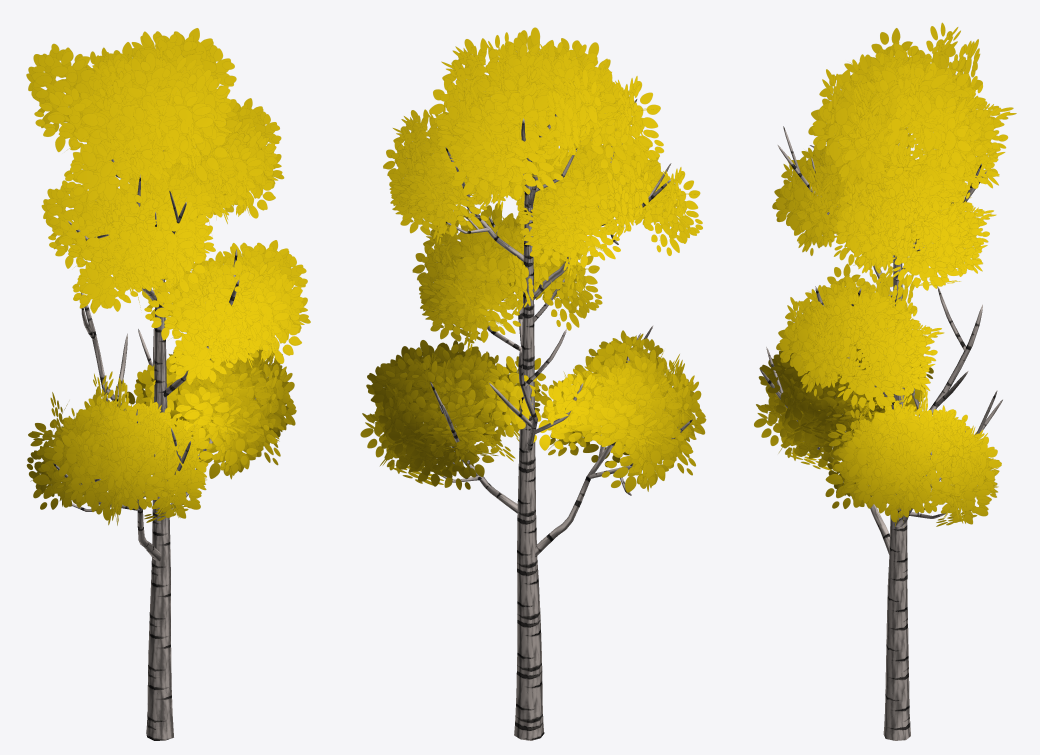
File: BirchTree_2.glb
3 views of the same model, side by side, from view 1: azimuth 30°, elevation 25°; view 2: azimuth 150°, elevation 25°; view 3: azimuth 270°, elevation 25° (orthographic). The views are drawn at different scales.
Visible parts, largest first — view 1: BirchTree_2; view 2: BirchTree_2; view 3: BirchTree_2.
Boxes of the visible parts, x1,y1,x2,y2 form: BirchTree_2: (26,28,310,740); BirchTree_2: (360,27,706,740); BirchTree_2: (754,22,1016,740).
Bounding box in the file's own units: 3.35 × 7.57 × 2.81.
2 materials, 2 textured.
